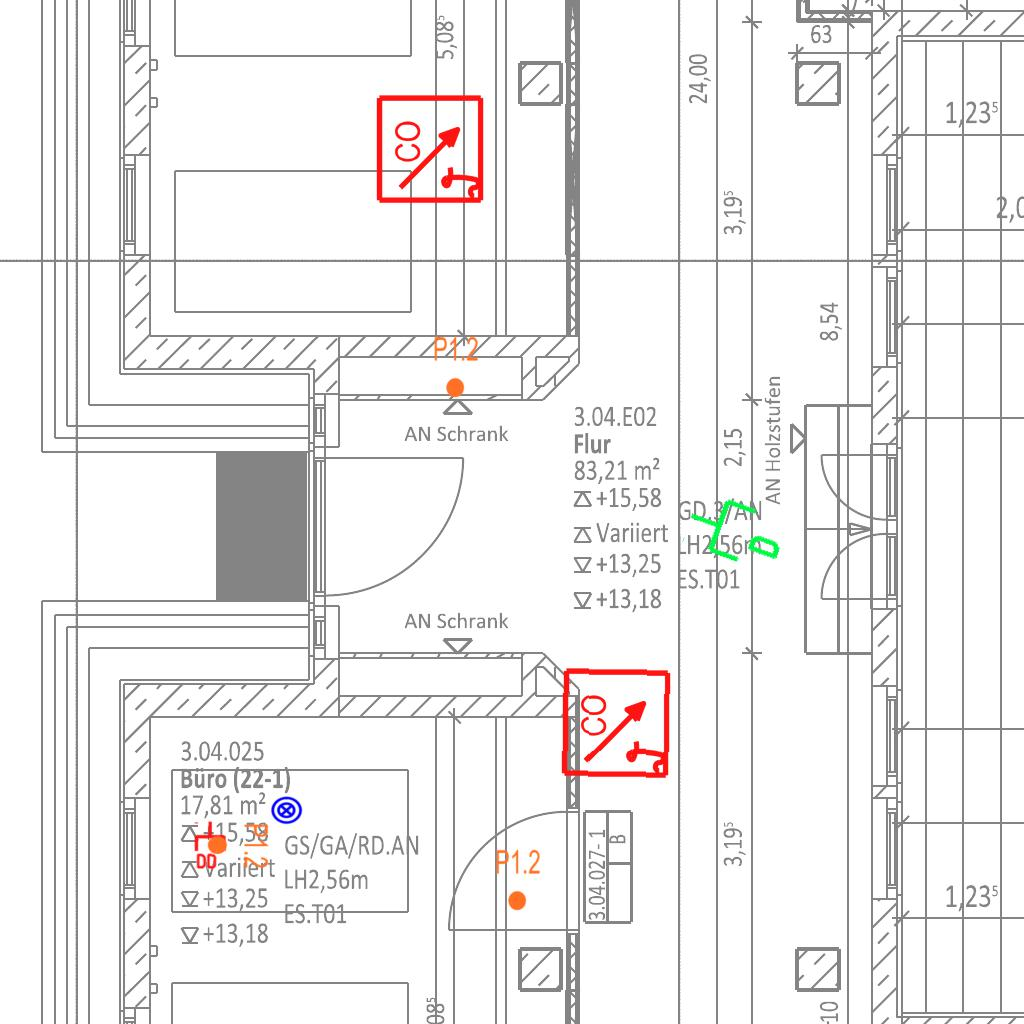Datenanschluss_einfach: (677, 480, 796, 580)
Datenanschluss_zweifach: (194, 820, 228, 871)
Downlight_LED_Einbauleuchten_Flur: (495, 848, 541, 912), (433, 335, 479, 399), (206, 823, 270, 869)
ROA_Rauchmelder_optisch_mit_Signalgeber_(Sockelsirene): (560, 665, 675, 780), (375, 92, 488, 205)
Taster_beleuchtet: (270, 794, 303, 827)
